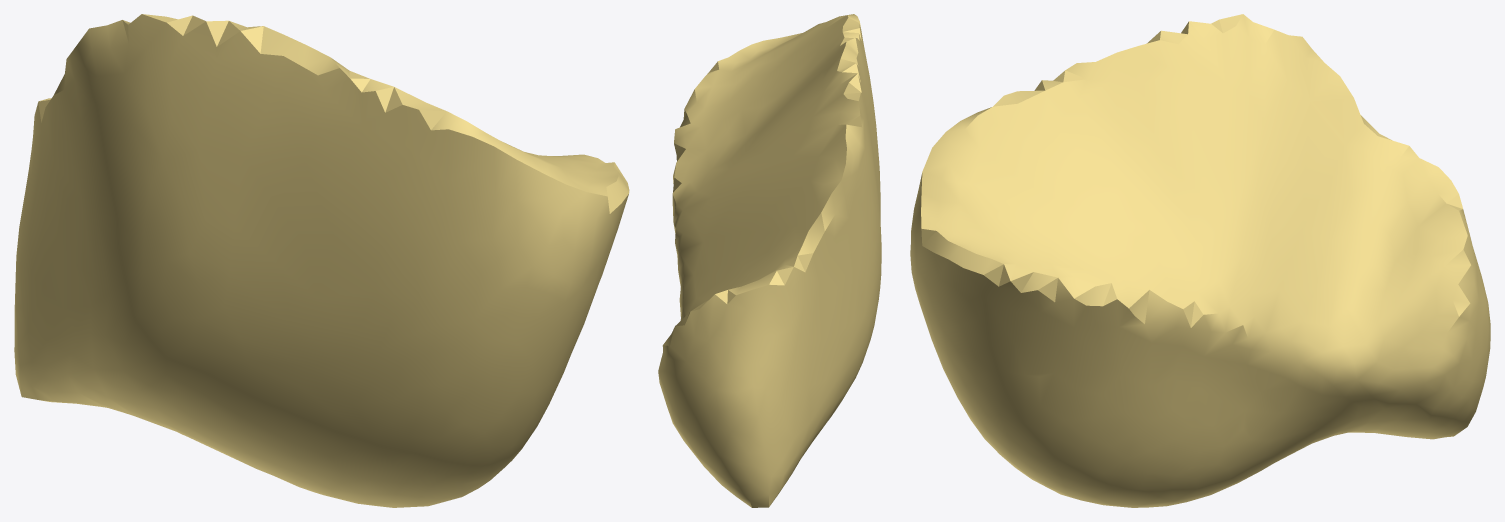
The model's file is fma72985_mm2790.glb.
3 views of the same model, side by side, from view 1: azimuth 30°, elevation 25°; view 2: azimuth 150°, elevation 25°; view 3: azimuth 270°, elevation 25° (orthographic). The views are drawn at different scales.
Parts seen in each view (by area): view 1: FMA72985_MM2790; view 2: FMA72985_MM2790; view 3: FMA72985_MM2790.
Part boxes in pixels (x1=…): FMA72985_MM2790: x1=14, y1=14, x2=629, y2=507; FMA72985_MM2790: x1=658, y1=14, x2=881, y2=507; FMA72985_MM2790: x1=910, y1=14, x2=1490, y2=507.
Bounding box in the file's own units: 0.00349 × 0.00446 × 0.00555.
